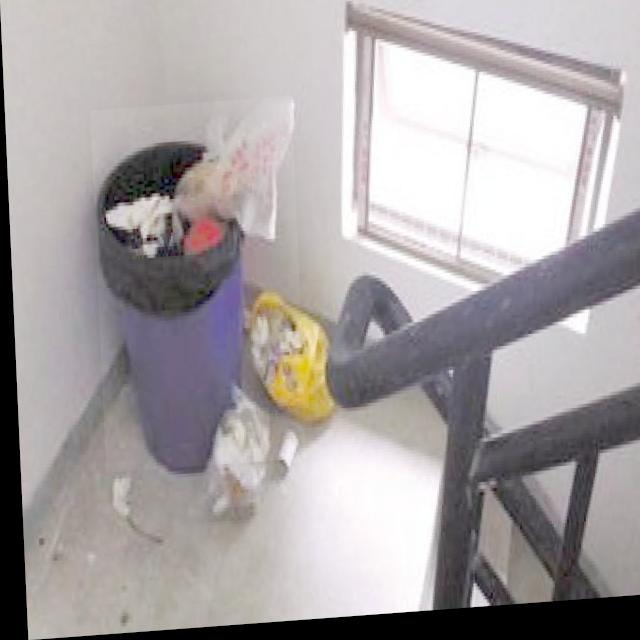garbage: (186, 287, 331, 519)
overflow: (89, 100, 303, 474)
